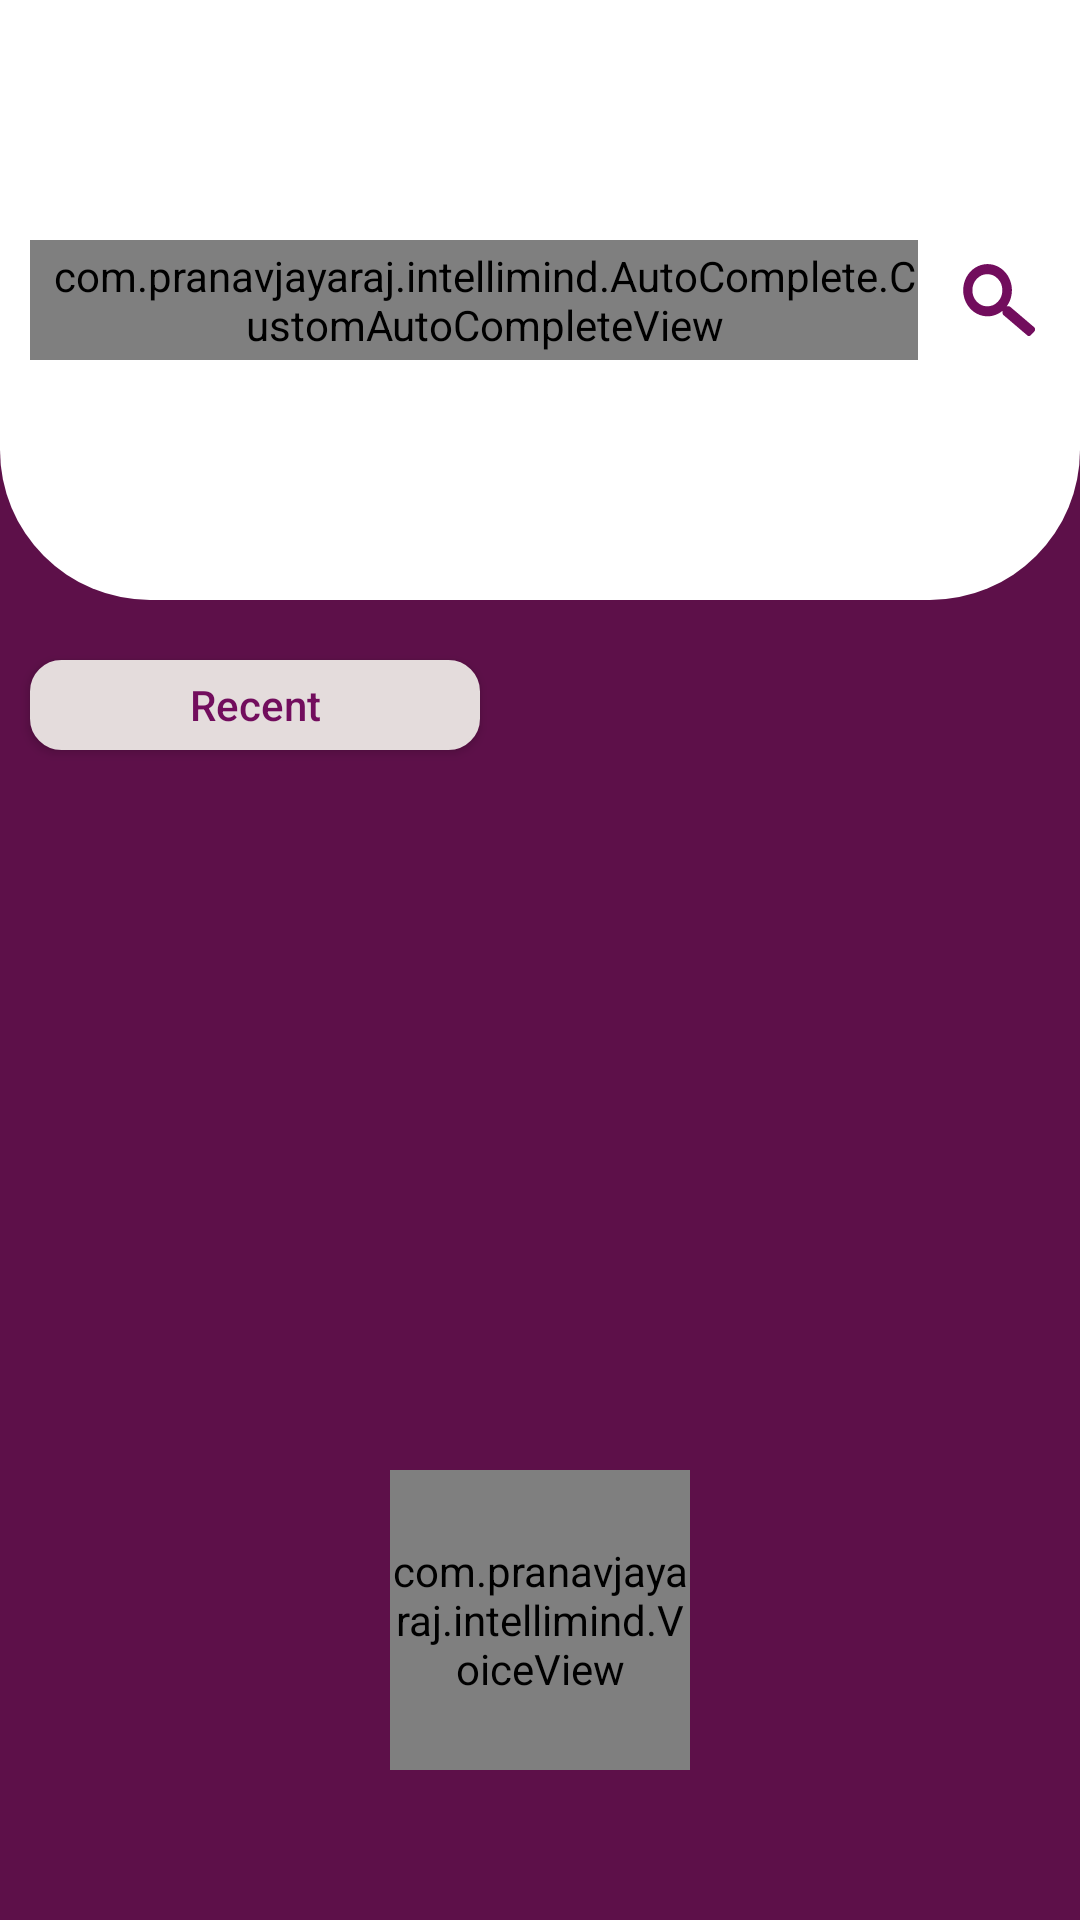

Icons on this 1080px x 1920px Android screen, each with its box as (x1, y1, x2, y2):
feild search: (963, 264, 1035, 336)
